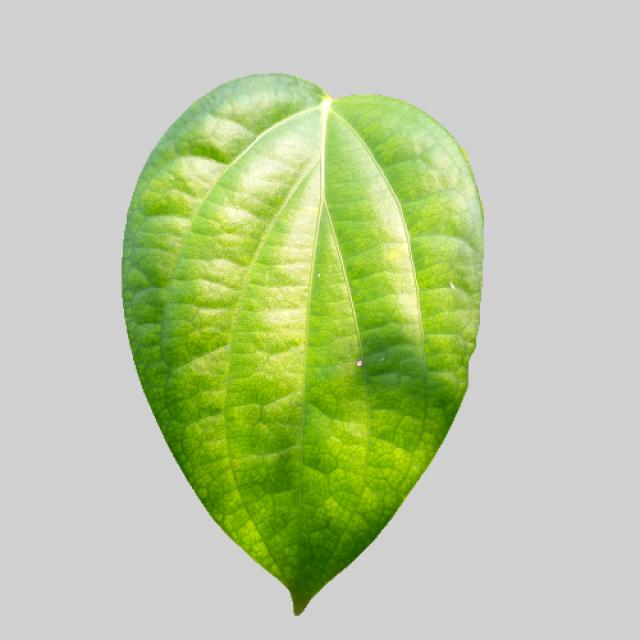healthy: (119, 72, 488, 621)
